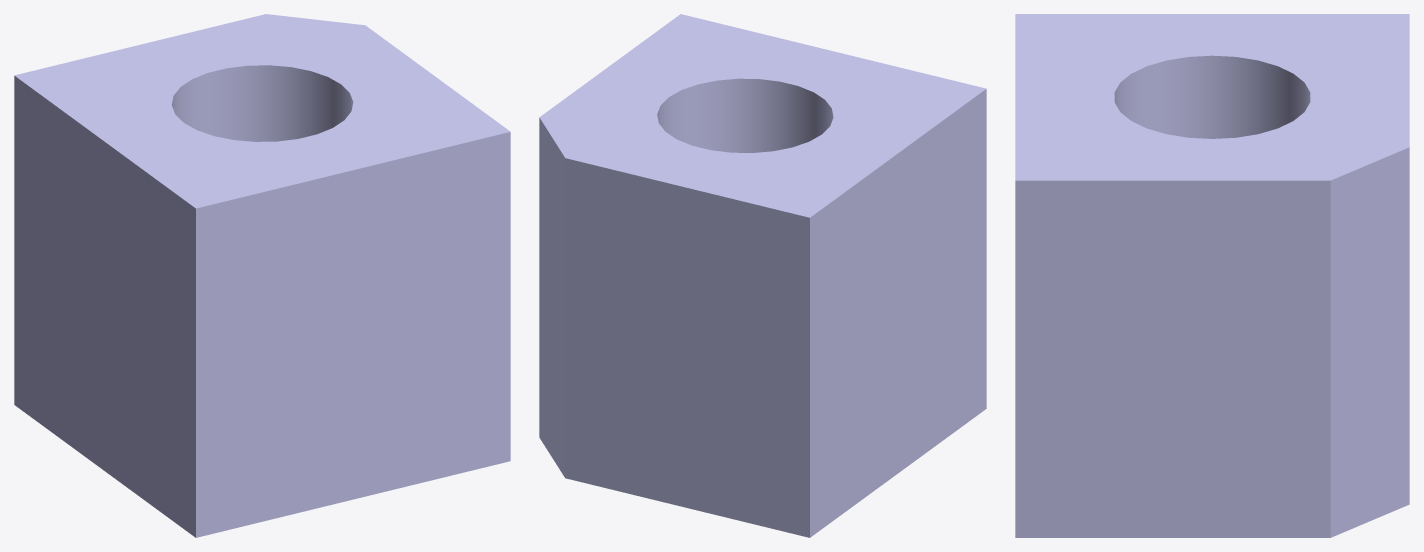
The model's file is testmodel.fbx.
3 renders of one model, left to right at view 1: azimuth 30°, elevation 25°; view 2: azimuth 150°, elevation 25°; view 3: azimuth 270°, elevation 25°, orthographic. The views are drawn at different scales.
Parts seen in each view (by area): view 1: testmodel; view 2: testmodel; view 3: testmodel.
Part boxes in pixels (x1=…): testmodel: x1=14, y1=14, x2=510, y2=537; testmodel: x1=539, y1=14, x2=986, y2=537; testmodel: x1=1015, y1=14, x2=1409, y2=537.
Size of the model in its own units: 100 by 100 by 100.
